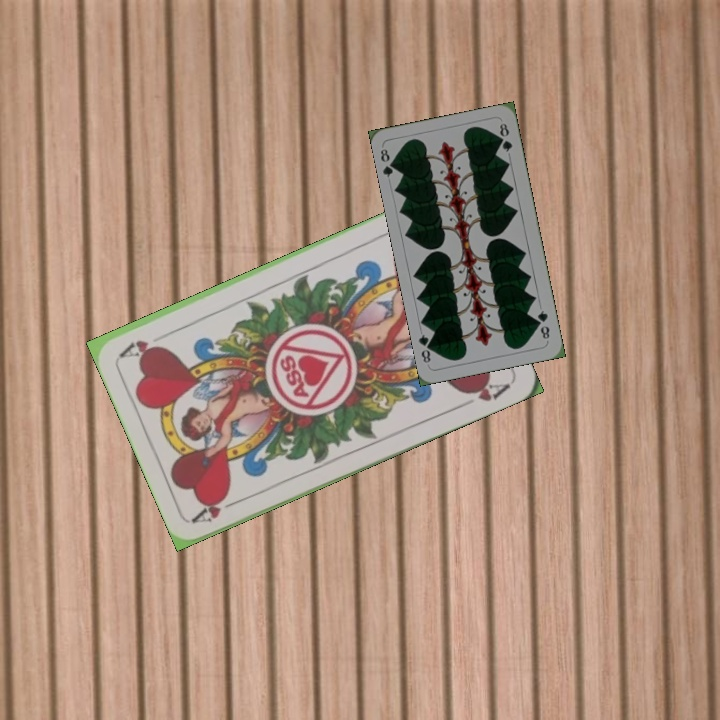G8: (376, 145, 399, 180), (533, 306, 552, 342)
HA: (190, 490, 246, 526)
